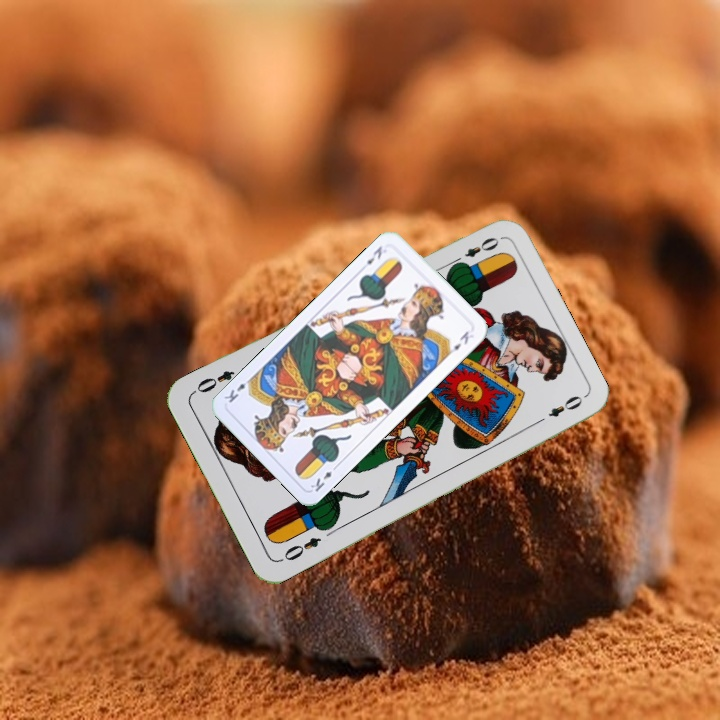EK: (306, 460, 341, 494), (362, 242, 385, 267)
EO: (447, 233, 502, 268), (276, 533, 324, 565)
